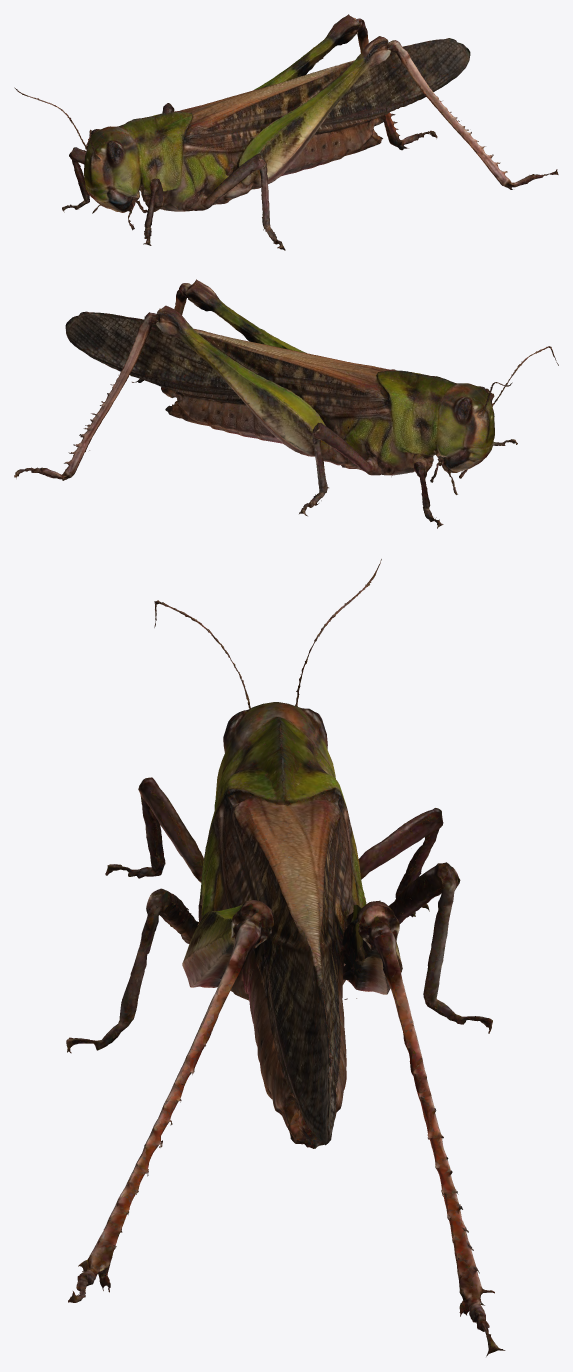
Rendered from locust-touch.glb.
3 renders of one model, top to bottom at view 1: azimuth 30°, elevation 25°; view 2: azimuth 150°, elevation 25°; view 3: azimuth 270°, elevation 25°, orthographic. The views are drawn at different scales.
Visible parts, largest first — view 1: Object_6; view 2: Object_6; view 3: Object_6.
Boxes of the visible parts, x1,y1,x2,y2 form: Object_6: (14,14,558,250); Object_6: (14,279,558,528); Object_6: (66,559,505,1356).
Size of the model in its own units: 1 by 0.3695 by 0.4079.
1 material, 1 textured.
